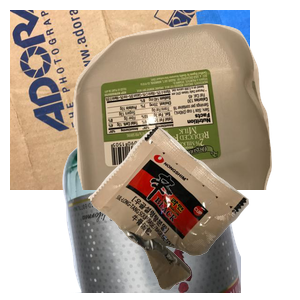cardboard: (10, 10, 250, 190)
glass: (60, 120, 300, 300)
plastic: (71, 21, 300, 201)
trash: (86, 124, 300, 300)
